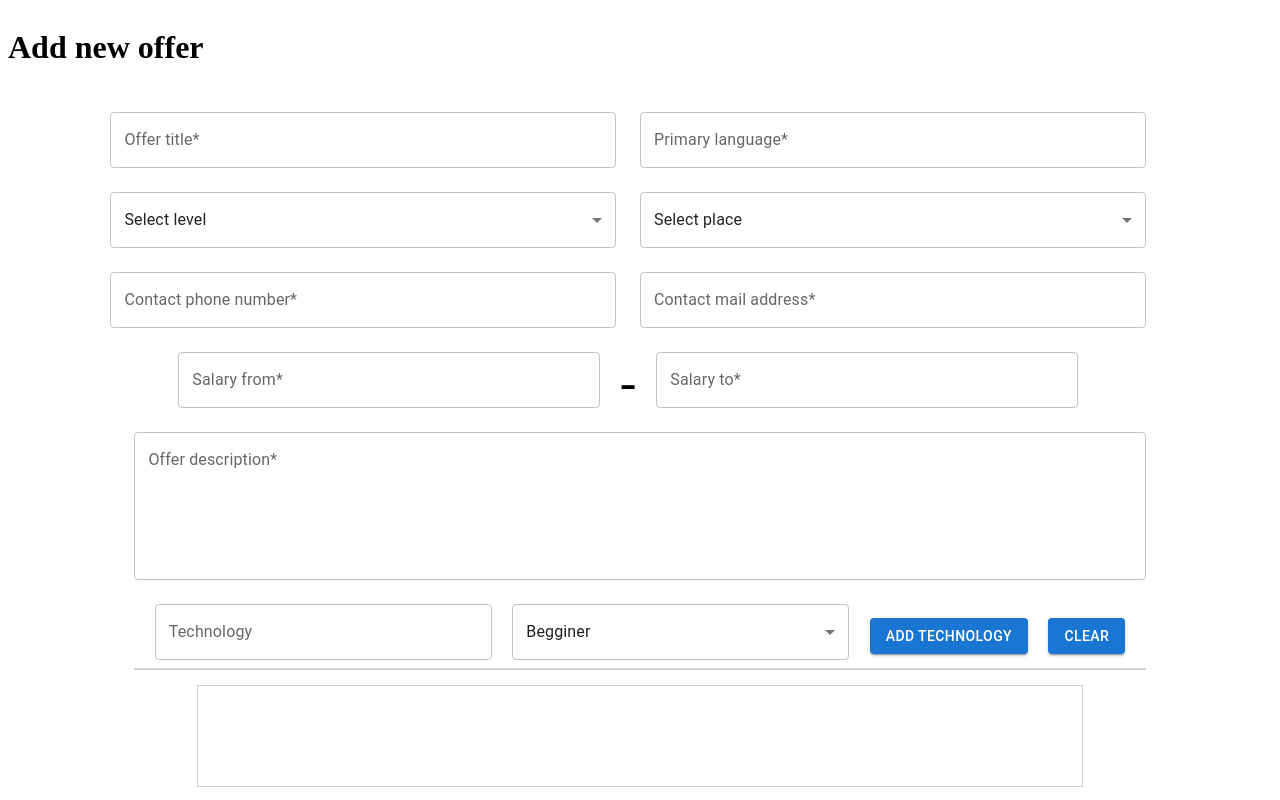
Scenario: AddNewOfferForm › should clear the technologies list when clicking the "Clear" button
The image size is (1280, 800).
Type "React" into the 4th field at x=323, y=632, box [155,604,492,660]
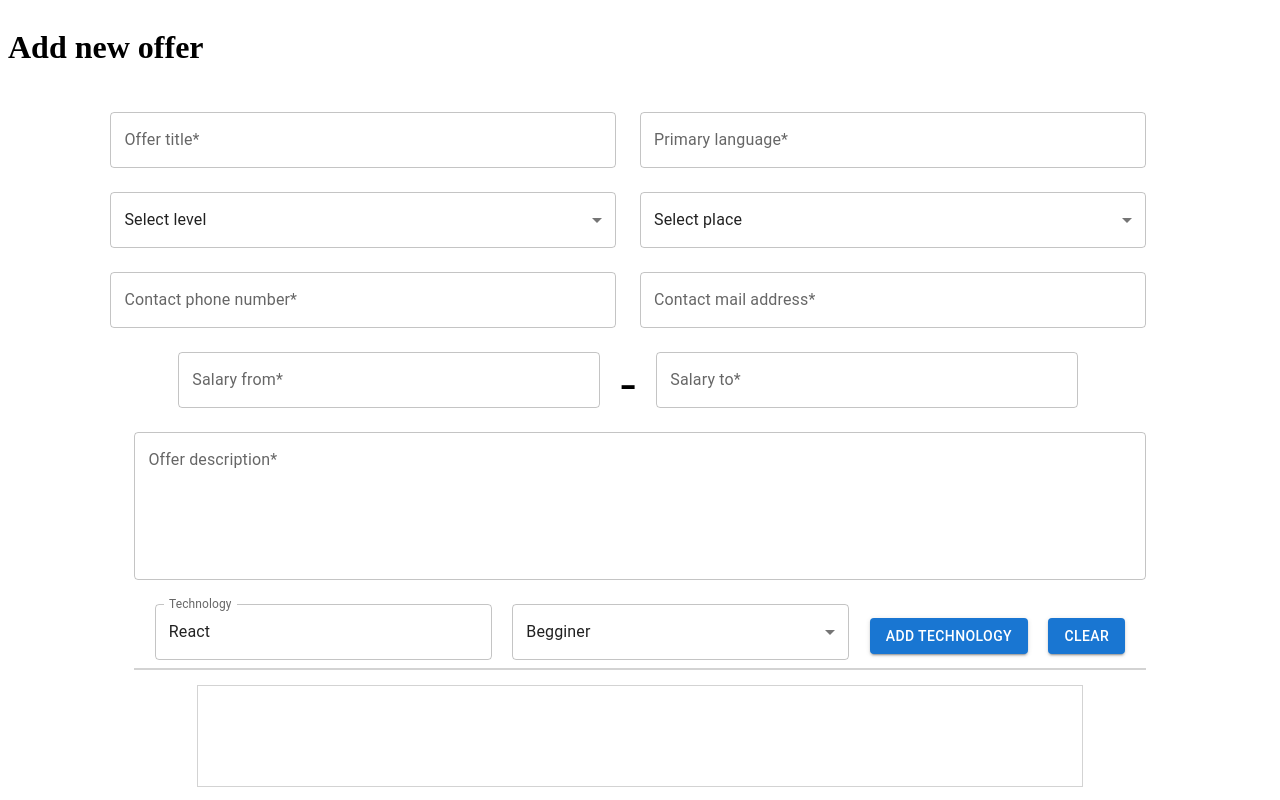
Click the button "Add technology" at x=949, y=636, box [870,618,1028,654]
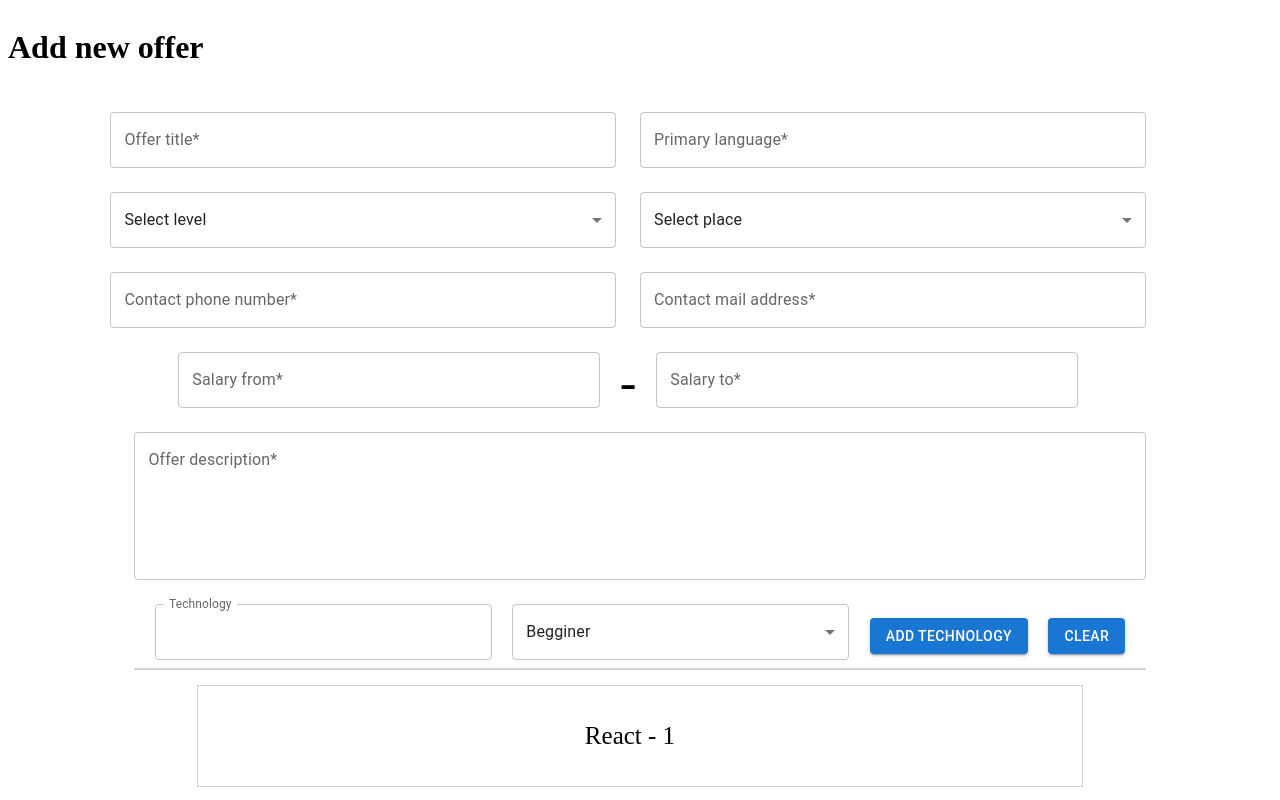
expect the text "React - 1" is shown: met, box [585,722,675,750]
Click the button "Clear" at x=1087, y=636, box [1048,618,1125,654]
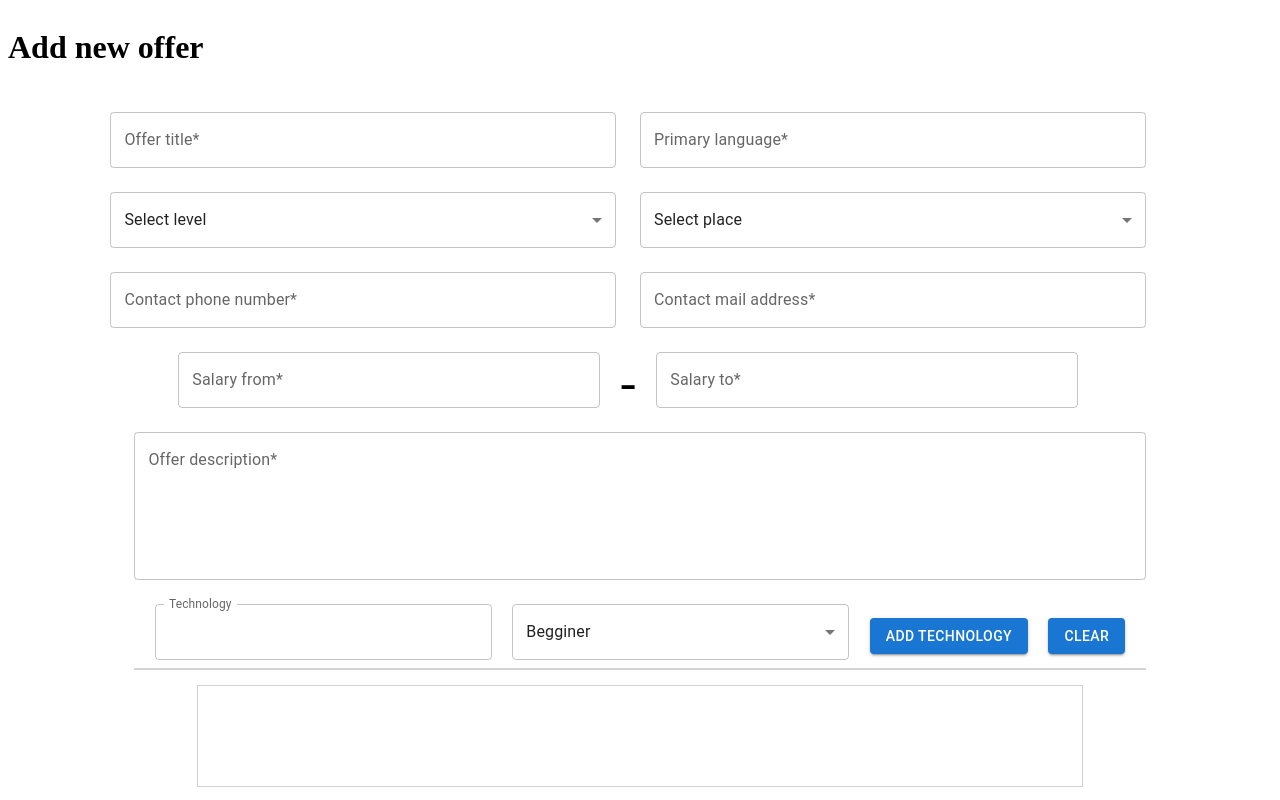
expect the text "React - 1" is gone: met
